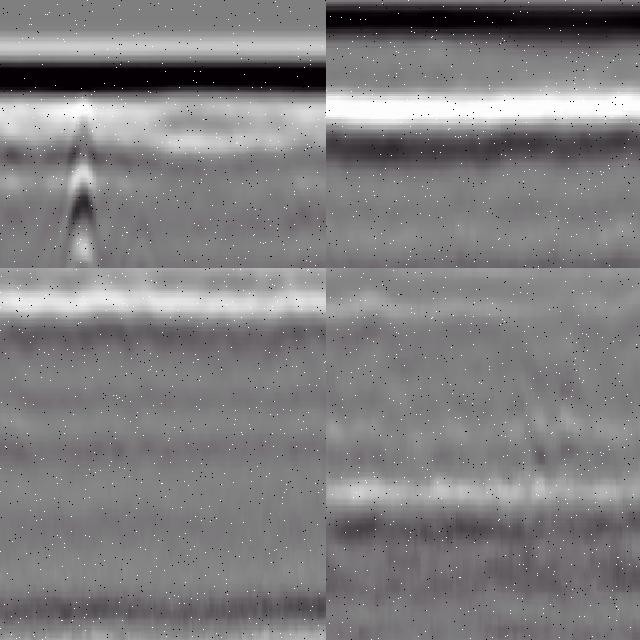crack: (70, 96, 97, 269)
